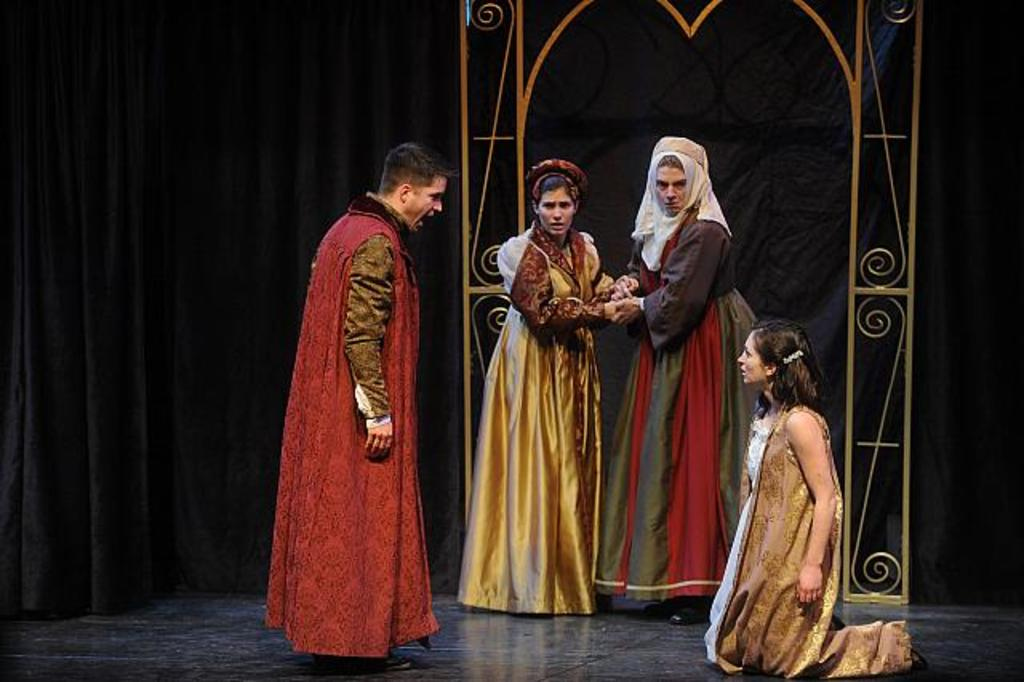Person: (262, 142, 457, 671), (453, 158, 637, 612), (705, 314, 930, 681), (618, 135, 764, 629)
